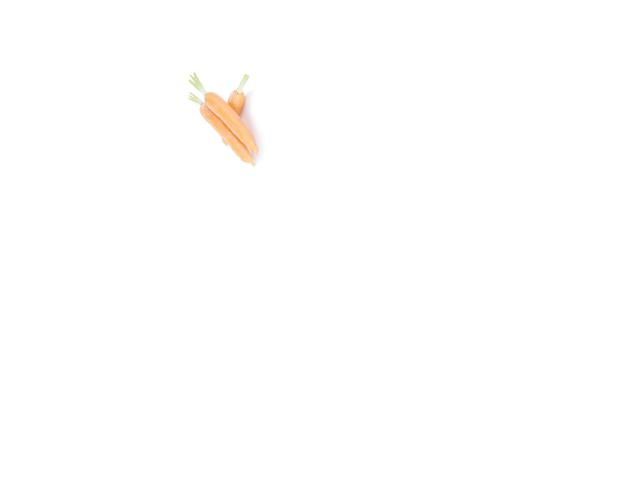carrot: (218, 77, 246, 153)
